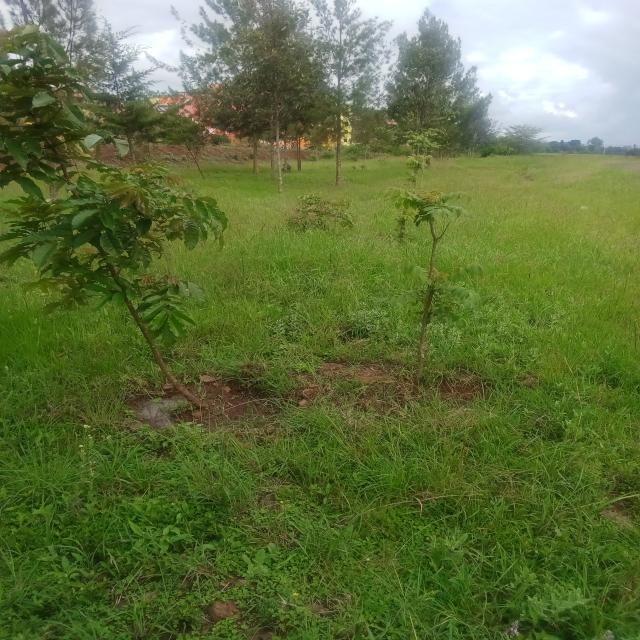Polyscias Kikuyensis: (0, 20, 231, 412), (382, 122, 499, 370)
